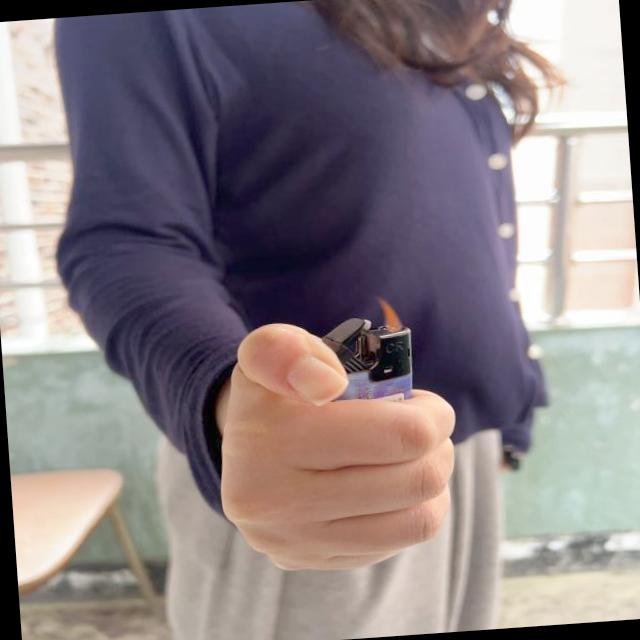fire: (373, 294, 404, 334)
